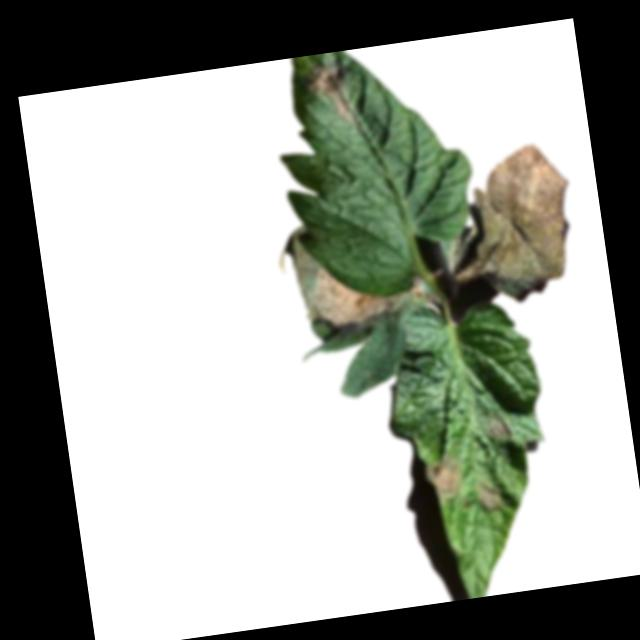Late_blight: (461, 140, 581, 305), (296, 254, 437, 335), (300, 60, 359, 131), (425, 455, 466, 503), (476, 483, 504, 513), (485, 418, 513, 445)
